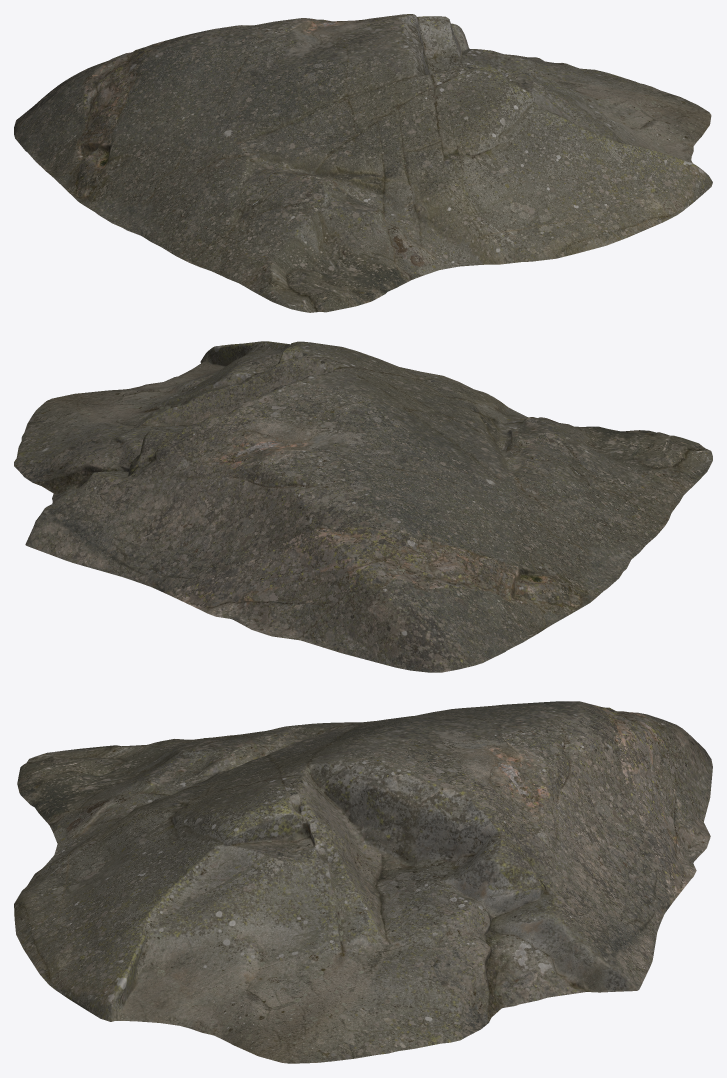
File: SM_zcmjaf0_tier_2.gltf
The picture shows the model from 3 angles, top to bottom: view 1: azimuth 30°, elevation 25°; view 2: azimuth 150°, elevation 25°; view 3: azimuth 270°, elevation 25°; orthographic projection. The views are drawn at different scales.
Visible parts, largest first — view 1: zcmjaf0_LOD2_TIER2_000; view 2: zcmjaf0_LOD2_TIER2_000; view 3: zcmjaf0_LOD2_TIER2_000.
Boxes of the visible parts, x1=… form: zcmjaf0_LOD2_TIER2_000: x1=14, y1=14, x2=712, y2=312; zcmjaf0_LOD2_TIER2_000: x1=14, y1=341, x2=712, y2=672; zcmjaf0_LOD2_TIER2_000: x1=14, y1=701, x2=712, y2=1063.
Size of the model in its own units: 8.78 by 1.65 by 7.61.
1 material, 1 textured.
